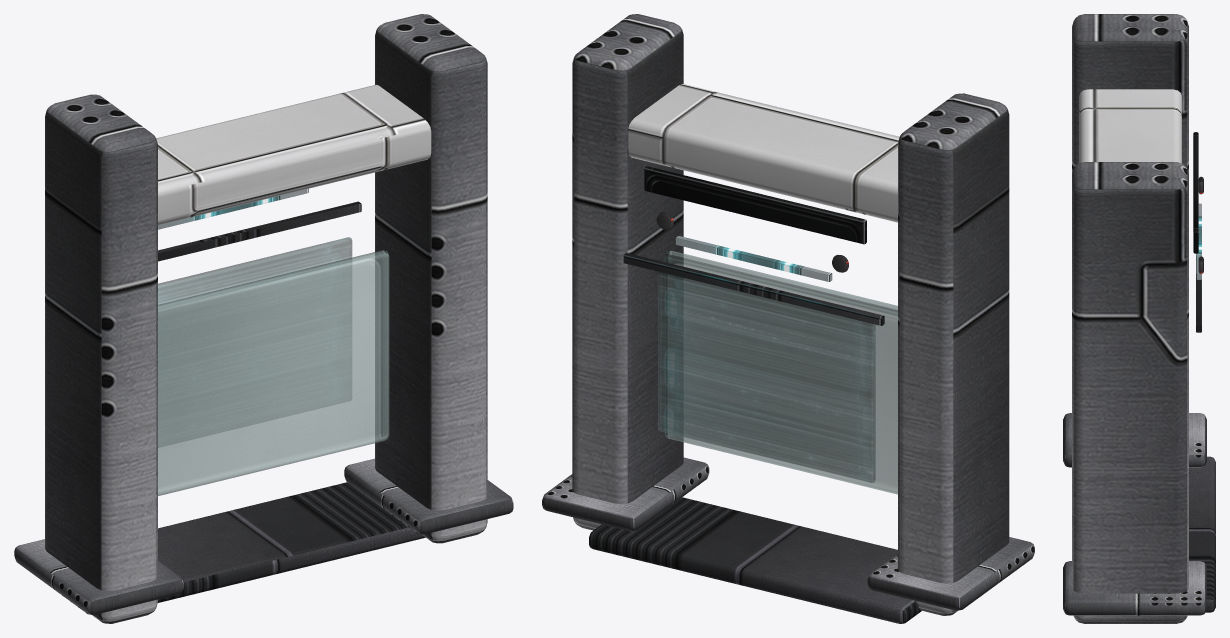
File: hp_l4_cineclinic_sedation_gate.glb
3 renders of one model, left to right at view 1: azimuth 30°, elevation 25°; view 2: azimuth 150°, elevation 25°; view 3: azimuth 270°, elevation 25°, orthographic. The views are drawn at different scales.
Visible parts, largest first — view 1: left_gate_tower, right_gate_tower, low_frosted_gate_panel, front_translucent_safety_veil, white_crossbar, floor_black_threshold, right_floor_pad, left_floor_pad, red_lock_line, cyan_ready_line; view 2: left_gate_tower, right_gate_tower, low_frosted_gate_panel, front_translucent_safety_veil, white_crossbar, floor_black_threshold, top_black_sensor_panel, right_floor_pad, left_floor_pad, red_lock_line, cyan_ready_line; view 3: right_gate_tower, left_gate_tower, white_crossbar, right_floor_pad, floor_black_threshold, left_floor_pad, top_black_sensor_panel, red_lock_line, cyan_ready_line.
Part boxes in pixels (left/top/right/bottom): left_gate_tower: left=45, top=94, right=157, bottom=623; right_gate_tower: left=375, top=14, right=487, bottom=543; low_frosted_gate_panel: left=158, top=250, right=389, bottom=495; front_translucent_safety_veil: left=158, top=237, right=352, bottom=447; white_crossbar: left=156, top=84, right=431, bottom=225; floor_black_threshold: left=158, top=482, right=425, bottom=602; right_floor_pad: left=344, top=458, right=513, bottom=534; left_floor_pad: left=14, top=539, right=183, bottom=614; red_lock_line: left=158, top=201, right=361, bottom=261; cyan_ready_line: left=158, top=188, right=308, bottom=229; left_gate_tower: left=898, top=93, right=1009, bottom=615; right_gate_tower: left=572, top=14, right=683, bottom=530; low_frosted_gate_panel: left=664, top=251, right=897, bottom=494; front_translucent_safety_veil: left=658, top=272, right=875, bottom=482; white_crossbar: left=628, top=84, right=899, bottom=222; floor_black_threshold: left=589, top=497, right=921, bottom=623; top_black_sensor_panel: left=644, top=166, right=866, bottom=244; right_floor_pad: left=542, top=457, right=709, bottom=531; left_floor_pad: left=867, top=537, right=1034, bottom=610; red_lock_line: left=623, top=253, right=884, bottom=325; cyan_ready_line: left=675, top=236, right=832, bottom=281; right_gate_tower: left=1072, top=162, right=1188, bottom=623; left_gate_tower: left=1072, top=14, right=1188, bottom=173; white_crossbar: left=1079, top=89, right=1181, bottom=163; right_floor_pad: left=1063, top=561, right=1206, bottom=615; floor_black_threshold: left=1189, top=456, right=1215, bottom=612; left_floor_pad: left=1063, top=413, right=1206, bottom=467; top_black_sensor_panel: left=1193, top=132, right=1198, bottom=253; red_lock_line: left=1196, top=254, right=1201, bottom=332; cyan_ready_line: left=1196, top=203, right=1201, bottom=279.
Bounding box in the file's own units: 2.02 × 2.19 × 0.68.
8 materials, 8 textured.
